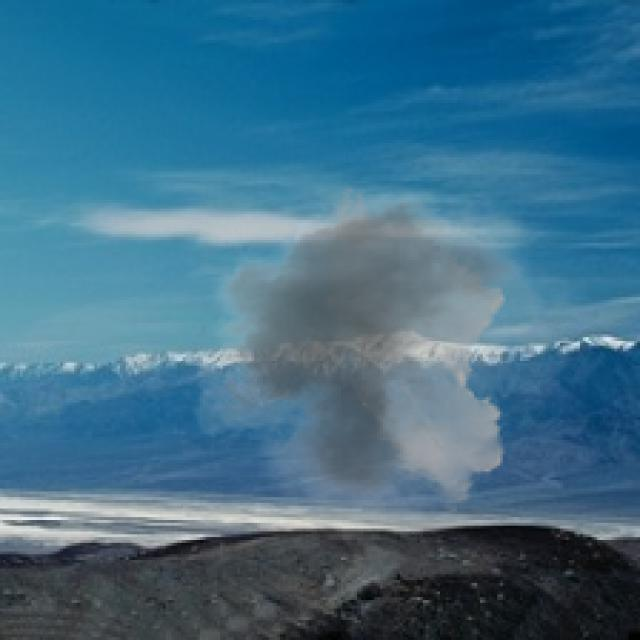Smoke: (174, 174, 589, 526)
